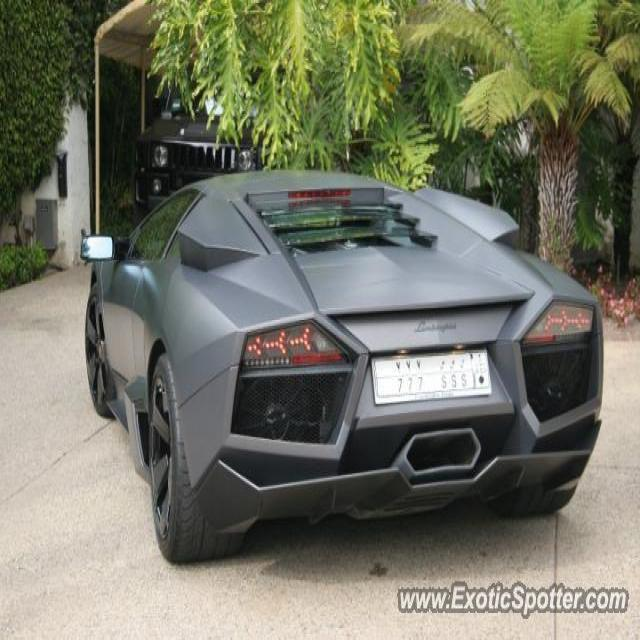license_plate: (364, 334, 497, 410)
